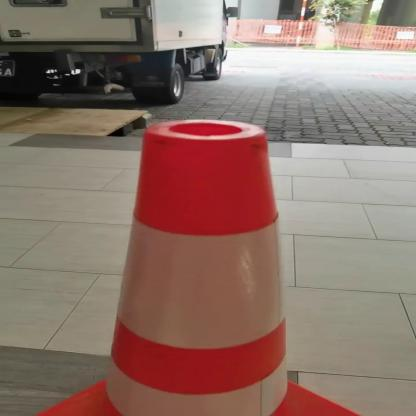cone: (24, 115, 381, 416)
